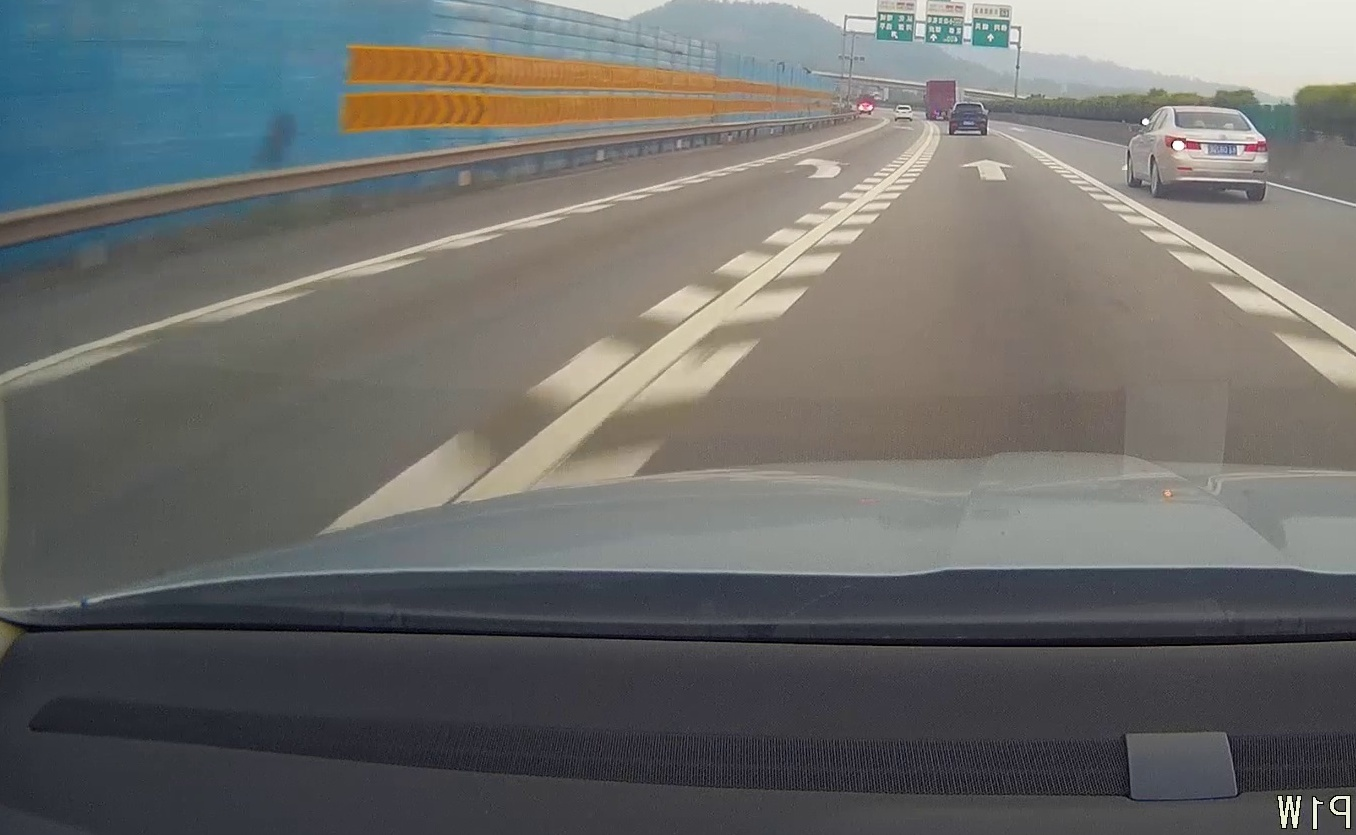L_light: (1165, 136, 1201, 151), (951, 112, 959, 117)
R_light: (1244, 140, 1267, 152), (978, 112, 986, 117)
T_light: (1202, 111, 1218, 115), (965, 104, 972, 106)
day-left: (1164, 105, 1268, 201)
day-no: (949, 102, 987, 135)
